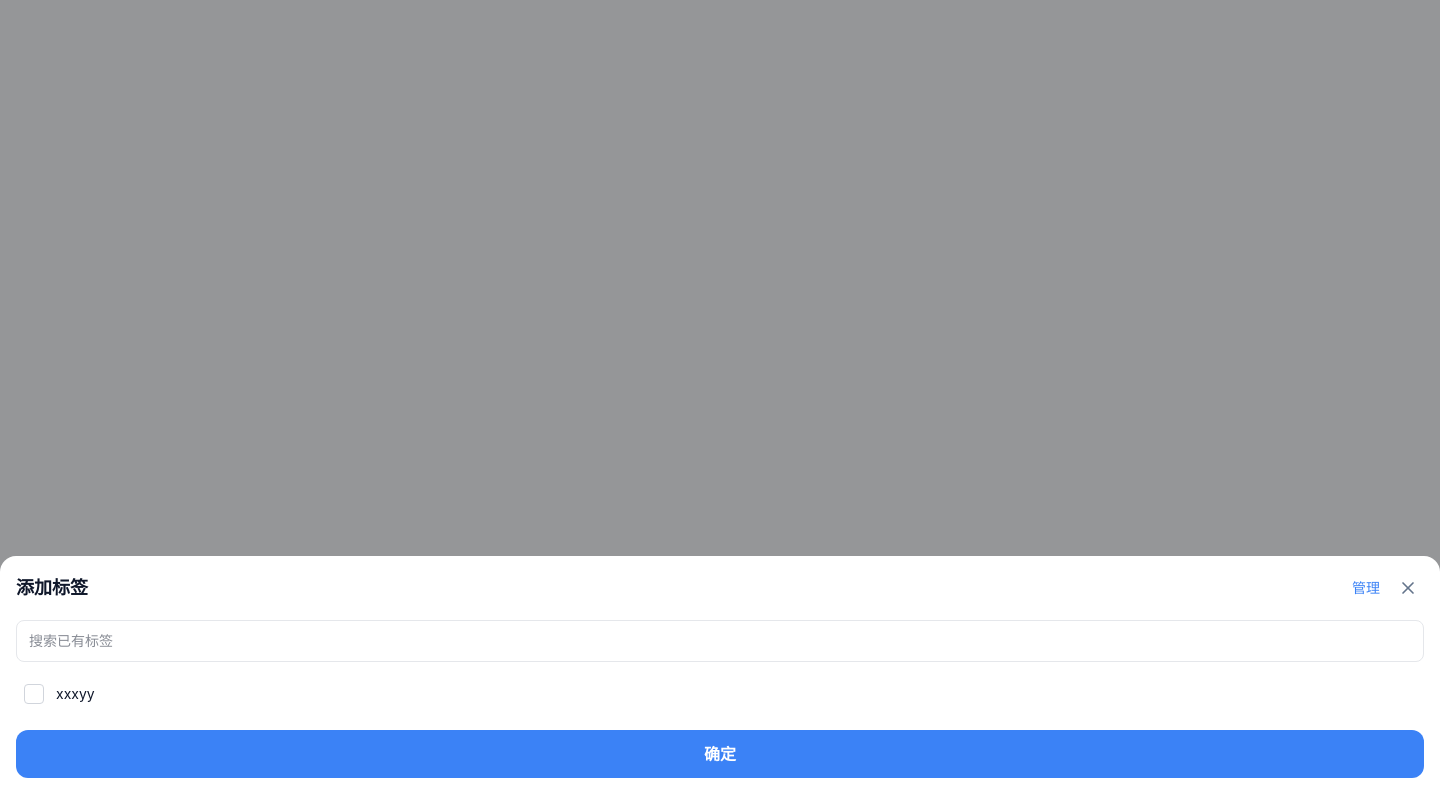
it: TagSheet › 输入前缀命中已有标签时，匹配项与新建入口同时展示
Type "xxx" into the field with placeholder "搜索已有标签". click: (720, 641)
box: [16, 620, 1424, 662]
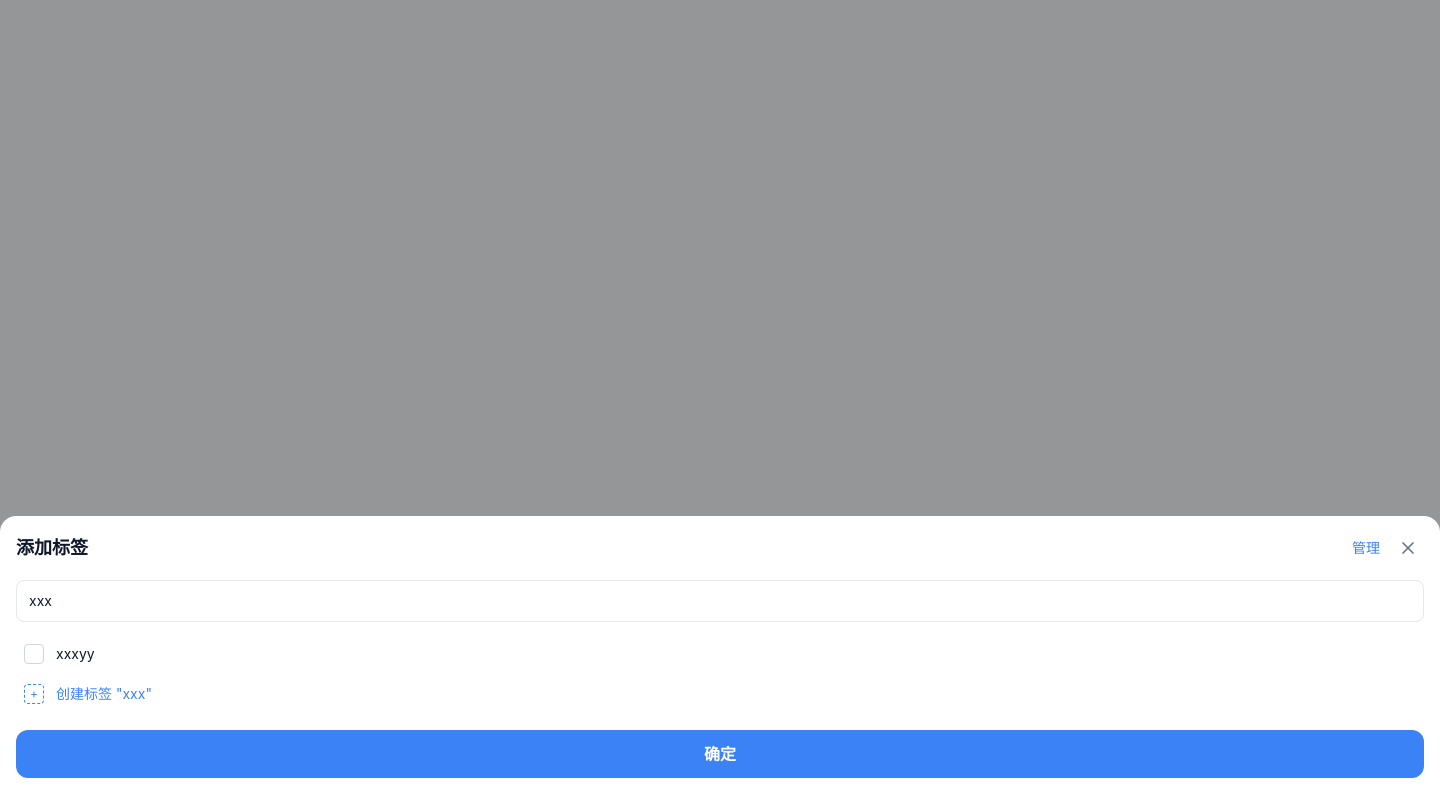
expect the text "xxxyy" is shown: met, box [56, 644, 95, 664]
expect the text "创建标签 \"xxx\"" is shown: met, box [56, 684, 152, 704]
